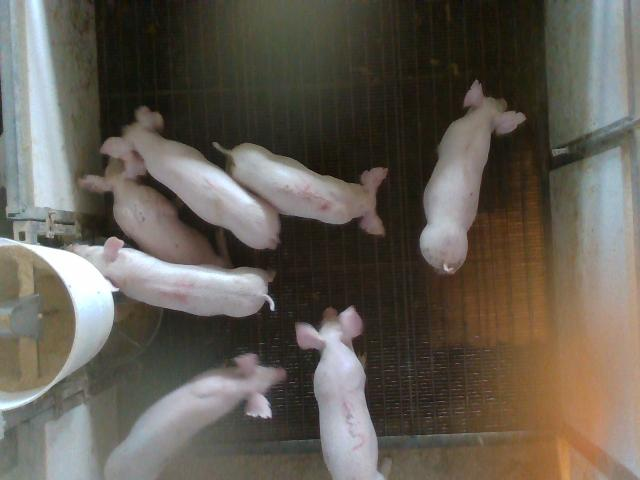pig-3: (295, 306, 384, 479)
pig-4: (70, 238, 274, 317)
pig-5: (214, 143, 387, 234)
